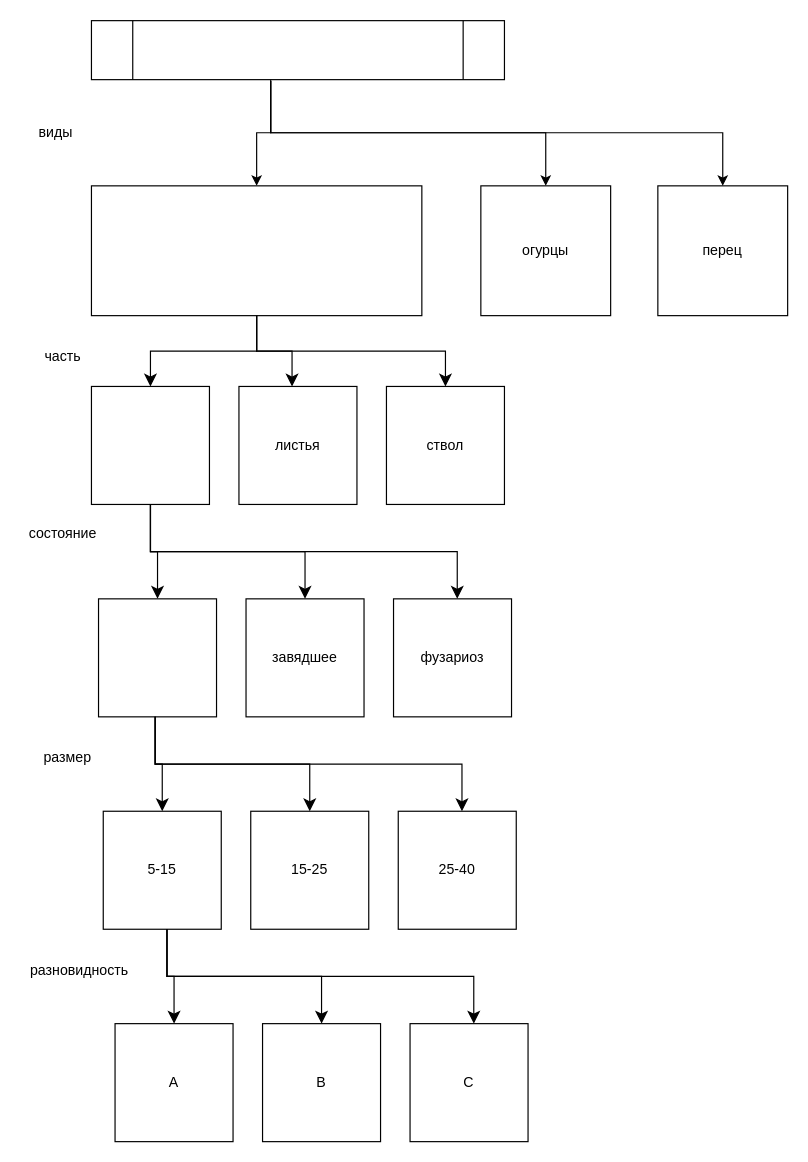
The diagram is 808 pixels wide and 1162 high, and some of its shapes have lost their labels. The shapes that lost their labels are listed below. From the top down, each one's centre as x and y in pixels, then its label:
At point (297, 49): "база данных растений".
At point (256, 250): "помидоры".
At point (149, 444): "плоды".
At point (157, 657): "здоровое".
